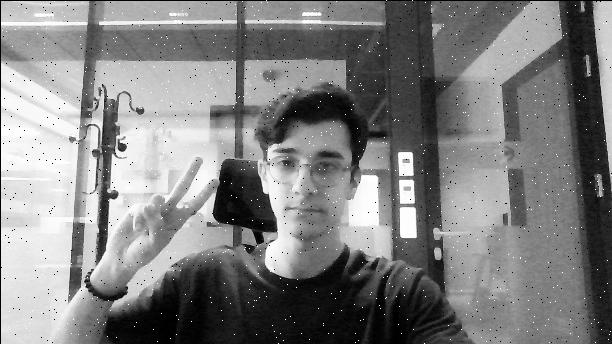Scissors: (104, 154, 220, 270)
